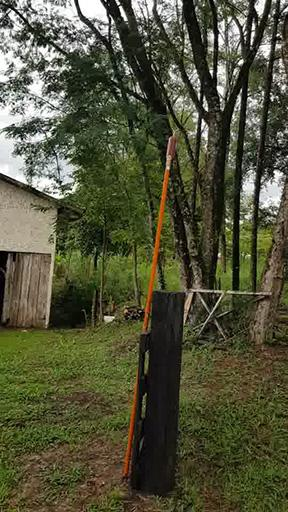Vara_Manobra: (122, 157, 172, 480)
